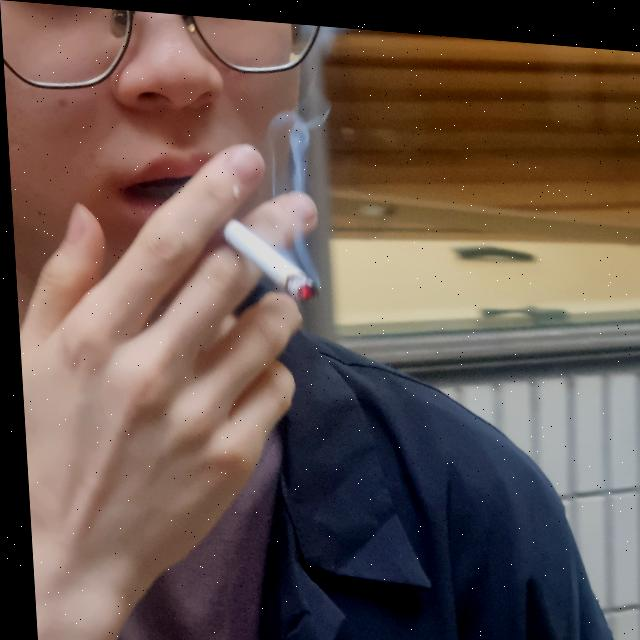cigarette: (213, 216, 319, 299)
